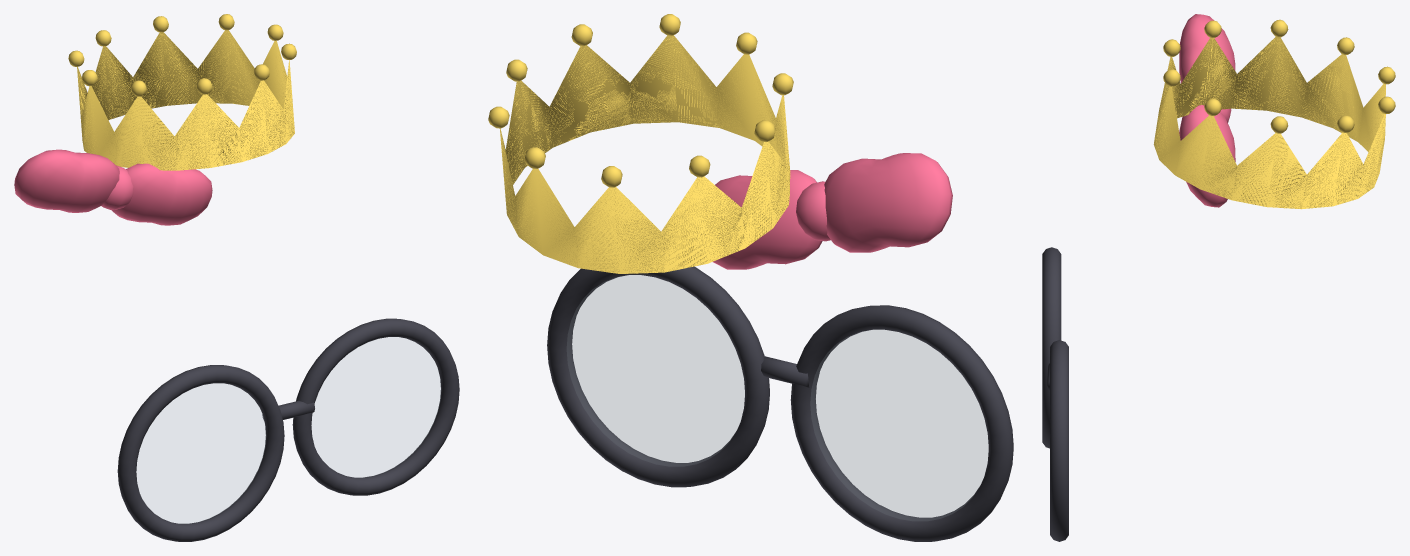
File: zorro_extras.glb
3 views of the same model, side by side, from view 1: azimuth 30°, elevation 25°; view 2: azimuth 150°, elevation 25°; view 3: azimuth 270°, elevation 25° (orthographic). The views are drawn at different scales.
Visible parts, largest first — view 1: acc_lentes_cristal, acc_corona, acc_lentes, acc_mono; view 2: acc_lentes_cristal, acc_corona, acc_lentes, acc_mono; view 3: acc_corona, acc_lentes, acc_mono.
Boxes of the visible parts, x1=… form: acc_lentes_cristal: x1=136, y1=337, x2=440, y2=523; acc_corona: x1=68, y1=14, x2=296, y2=170; acc_lentes: x1=117, y1=318, x2=459, y2=541; acc_mono: x1=14, y1=149, x2=212, y2=225; acc_lentes_cristal: x1=567, y1=275, x2=988, y2=520; acc_corona: x1=488, y1=14, x2=793, y2=273; acc_lentes: x1=547, y1=266, x2=1013, y2=541; acc_mono: x1=713, y1=153, x2=952, y2=269; acc_corona: x1=1153, y1=19, x2=1395, y2=209; acc_lentes: x1=1042, y1=247, x2=1068, y2=541; acc_mono: x1=1179, y1=14, x2=1235, y2=207.
Size of the model in its own units: 0.4616 by 0.4804 by 0.3573.
